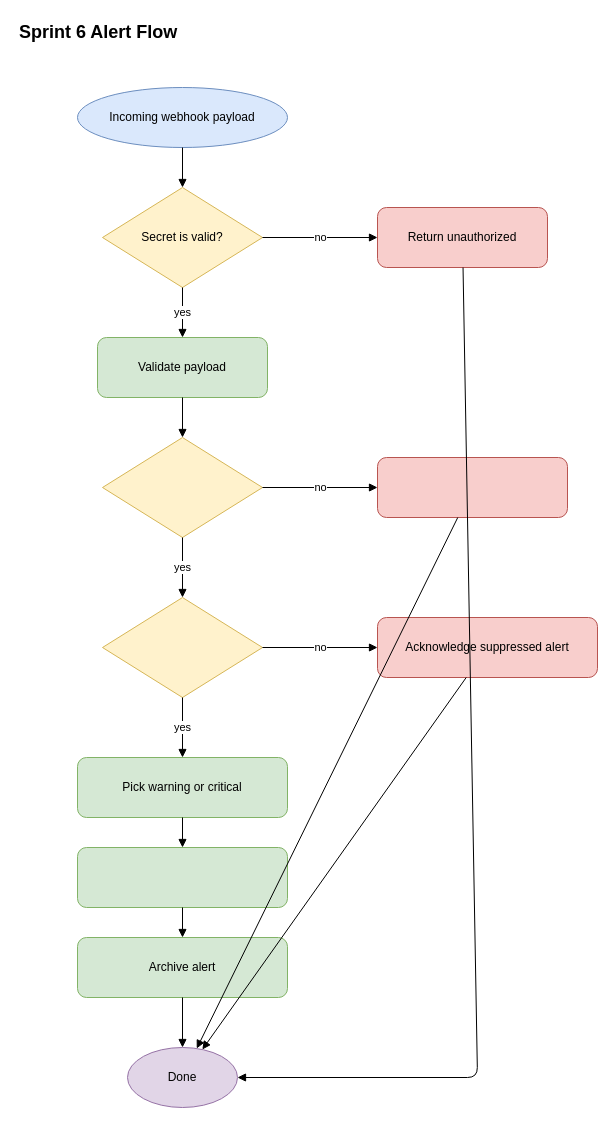
The diagram is 615 pixels wide and 1125 high, and some of its shapes have lost their labels. Here are the shapes that lost their labels. From the top down, the centre of each, then its label:
the point at 182,487: Any alerts?
the point at 472,487: Acknowledge no alerts
the point at 182,647: Cooldown passed?
the point at 182,877: Send Telegram message
